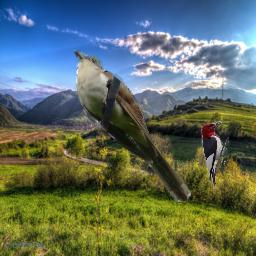Cuckoo: (74, 50, 191, 202)
Woodpecker: (201, 121, 229, 189)
